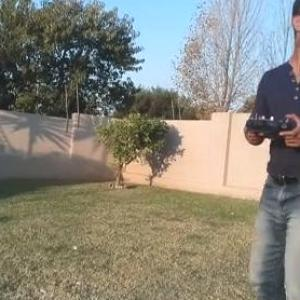follow: (236, 0, 299, 299)
